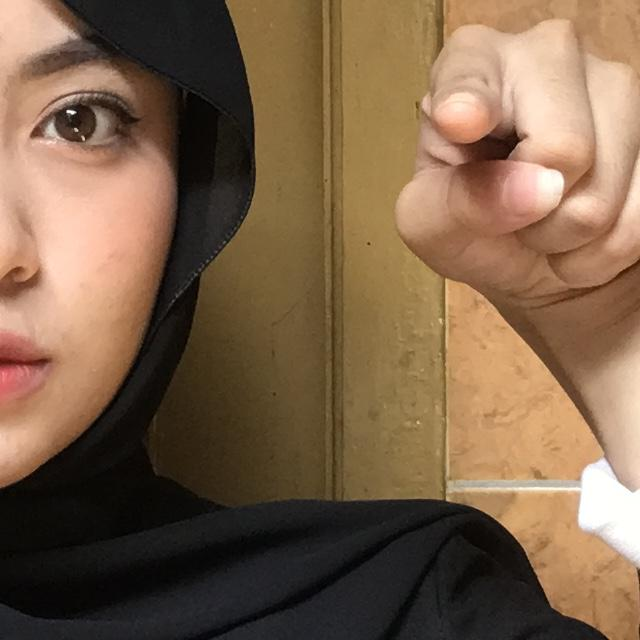kamu: (270, 0, 640, 576)
